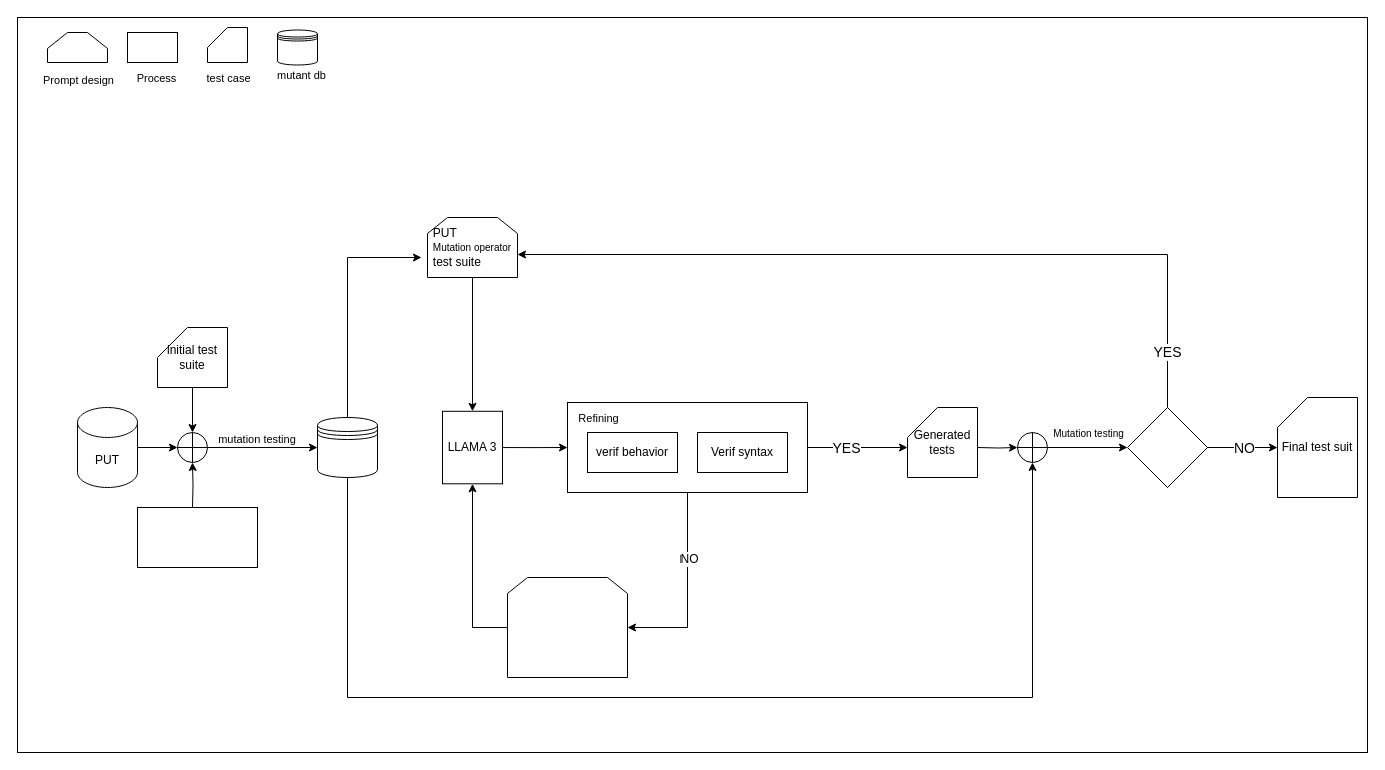
Image size: 1385x770. Some labels were removed from this diagram. Each missing label, with the centre of its shape:
"Generate mutants" belongs at (x=197, y=537).
"PUT Mutation operator error generated testcase" belongs at (x=567, y=627).
"Survived mutants" belongs at (x=347, y=447).
"Survived mutants?" belongs at (x=1167, y=447).
